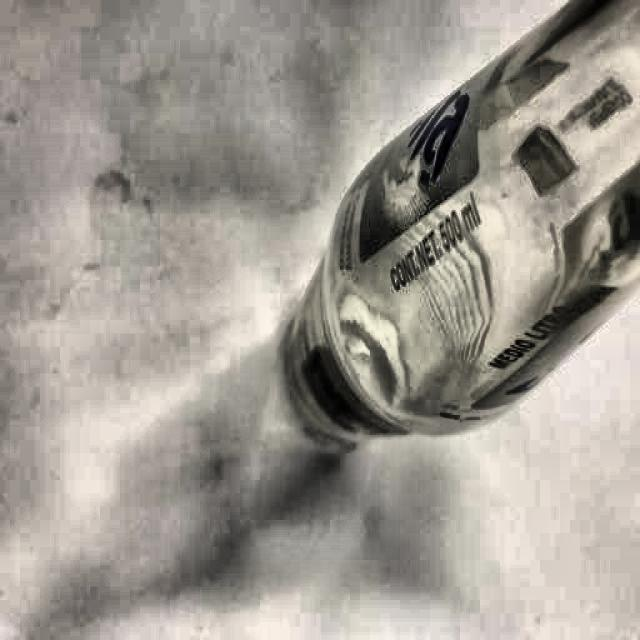glass: (296, 0, 640, 443)
